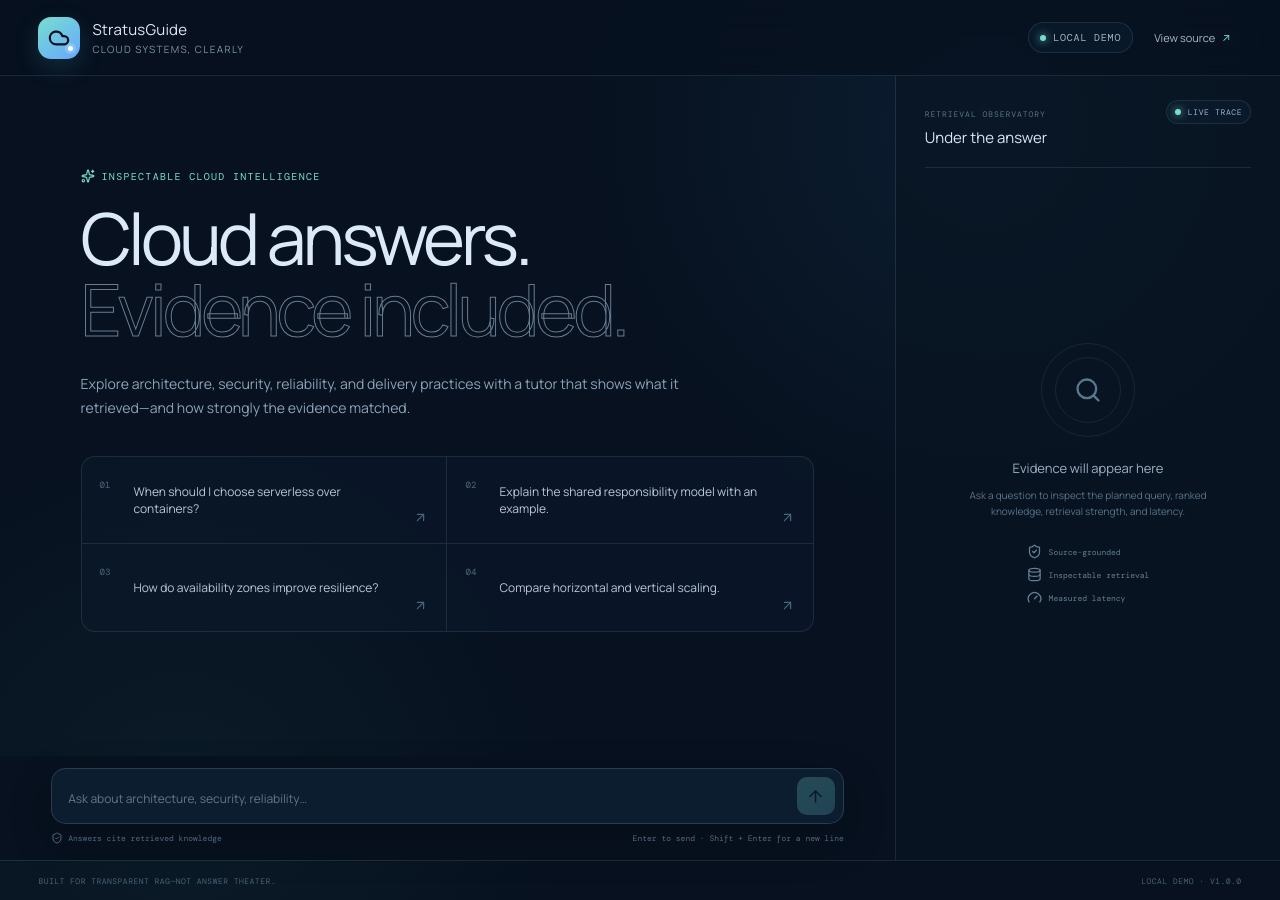
Test: StratusGuide › submits a suggested question and renders grounded evidence
This screenshot has width=1280, height=900.
Click the button "03 How do availability zones improve resilience?".
click(264, 587)  # box [82,544,447,631]
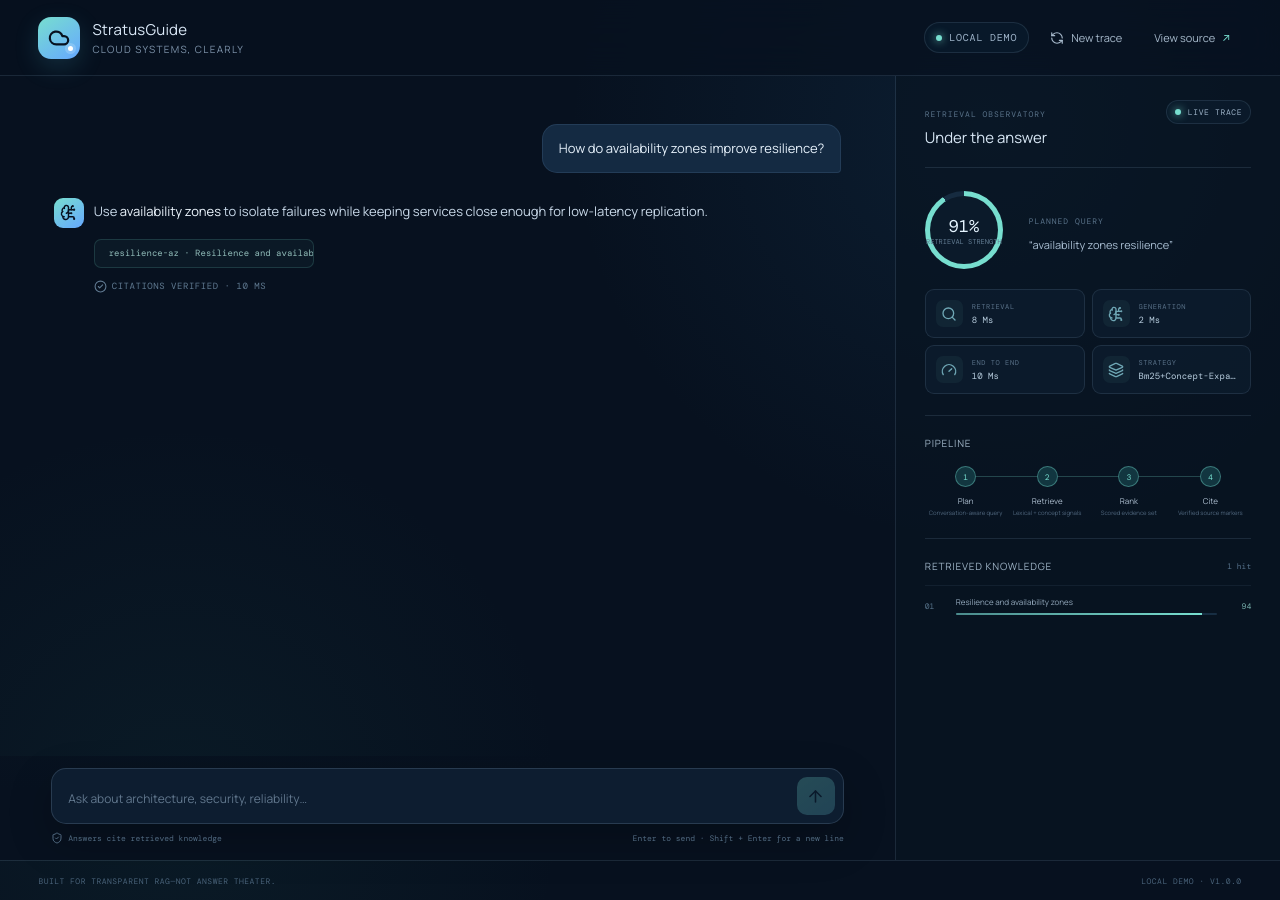
Expected: the element with test id "assistant-message" shows "Use availability zones", [54,198,708,293]
Expected: the text "“availability zones resilience”" is shown, [1029,237,1173,252]
Expected: the text "91%" is shown, [948,214,979,236]
